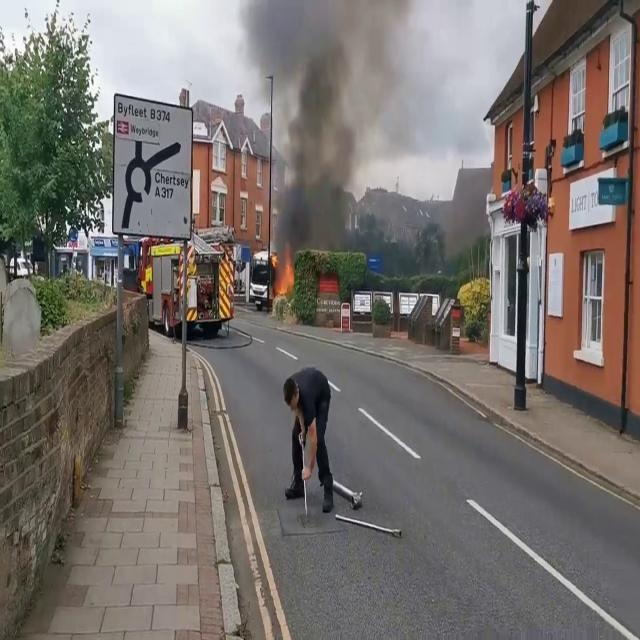Fire: (272, 248, 296, 302)
Smoke: (266, 0, 393, 256)
